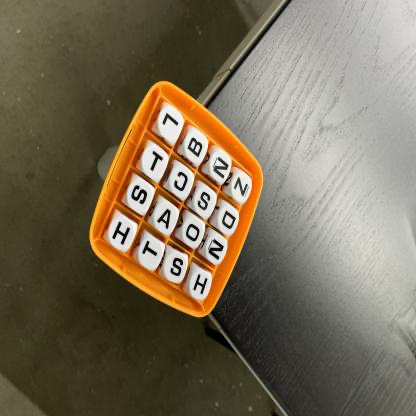a: (155, 202, 179, 234)
b: (185, 131, 208, 165)
c: (171, 167, 194, 198)
d: (218, 206, 240, 236)
h: (110, 217, 136, 251), (190, 271, 212, 302)
l: (159, 108, 185, 141)
n: (210, 152, 232, 183), (207, 235, 228, 265)
o: (183, 217, 205, 246)
s: (128, 179, 154, 214), (164, 252, 188, 284), (195, 187, 217, 219)
t: (143, 146, 169, 181), (139, 238, 164, 270)
z: (232, 172, 253, 203)
